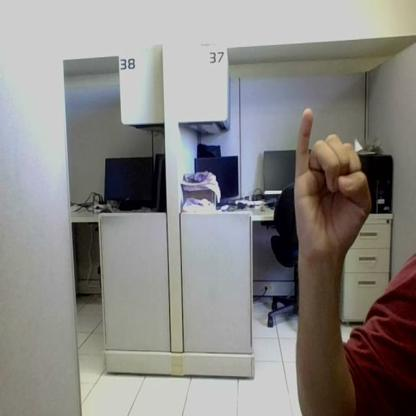I: (295, 108, 371, 264)
